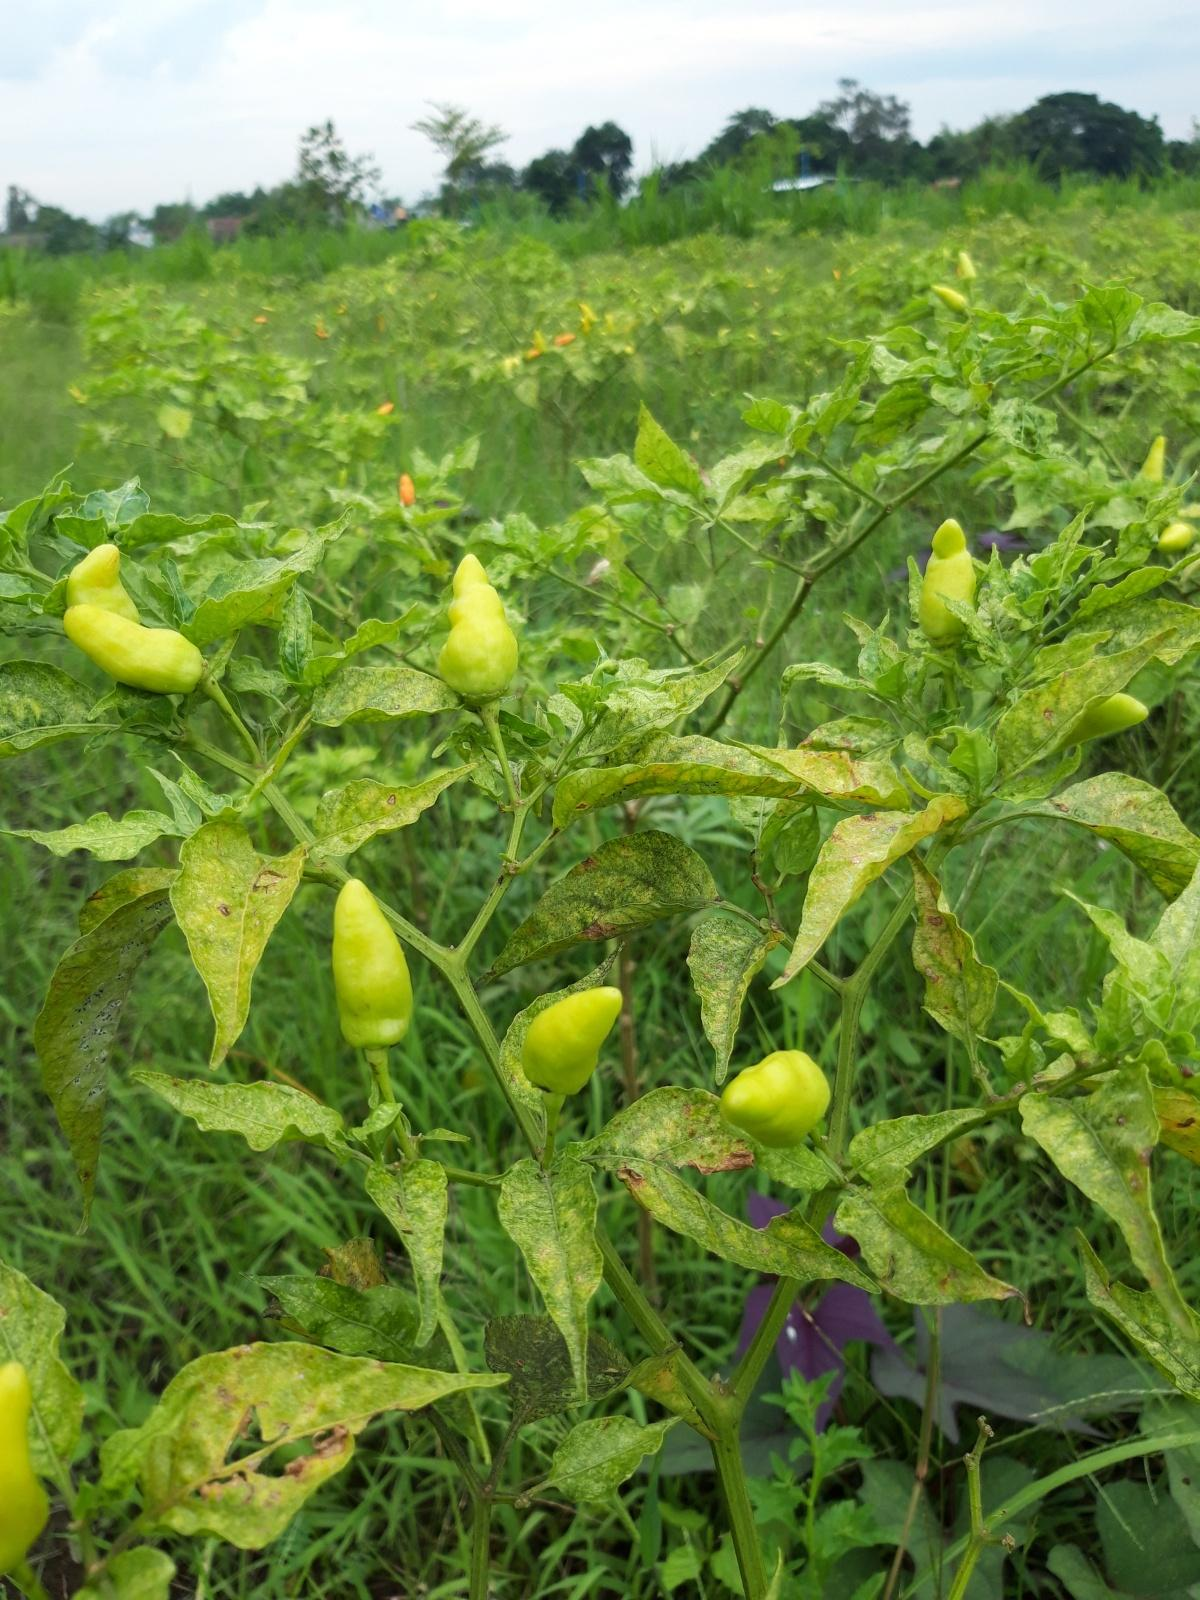cabai_normal: (332, 878, 412, 1046), (62, 603, 203, 694), (440, 554, 519, 698), (720, 1049, 829, 1151), (523, 986, 623, 1095), (919, 519, 976, 634), (1051, 692, 1152, 753), (1155, 523, 1192, 553), (932, 285, 968, 315), (957, 251, 976, 283)
